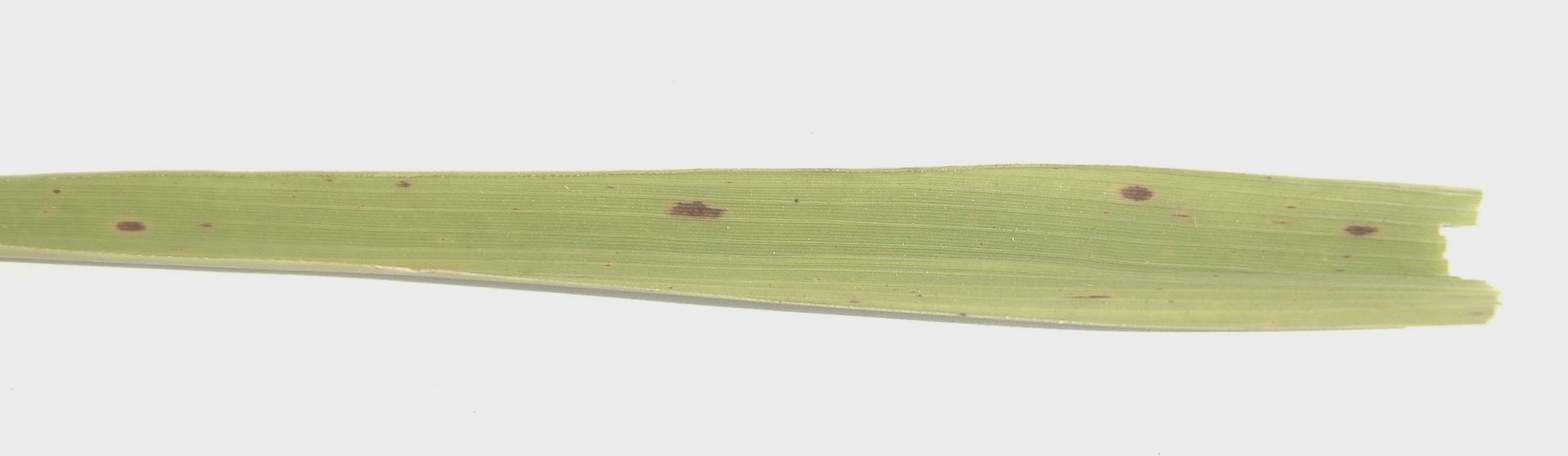Bacterial_Leaf_Blight: (628, 182, 754, 226), (1096, 177, 1171, 204), (110, 204, 155, 239), (1336, 218, 1384, 246)
